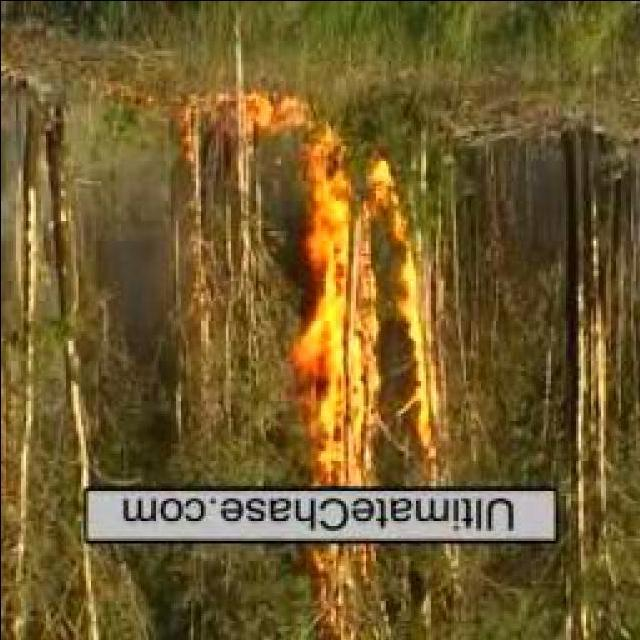Fire: (289, 99, 438, 488), (309, 536, 375, 640), (202, 84, 316, 128)
